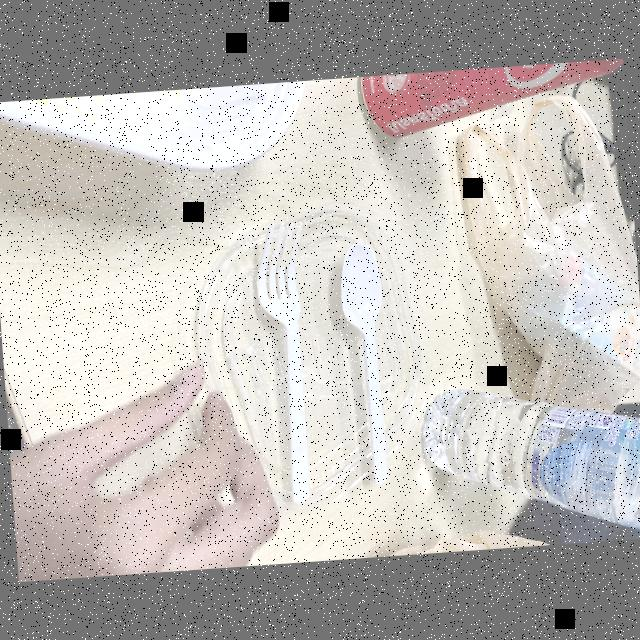plastic_spoon: (254, 214, 318, 516), (328, 237, 395, 506)
